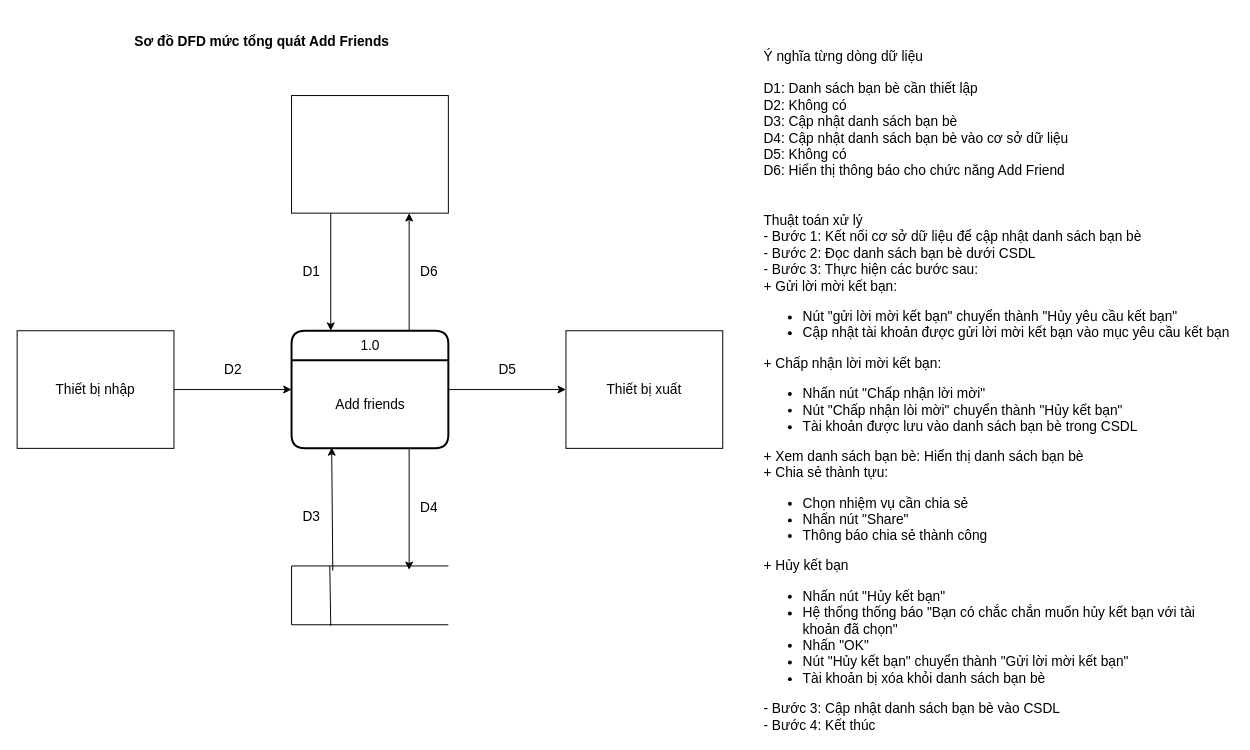
Image size: 1250x750. Some labels were removed from this diagram. Each missing label, with the centre of its shape:
Kho: point (369, 595)
User: point (369, 154)
